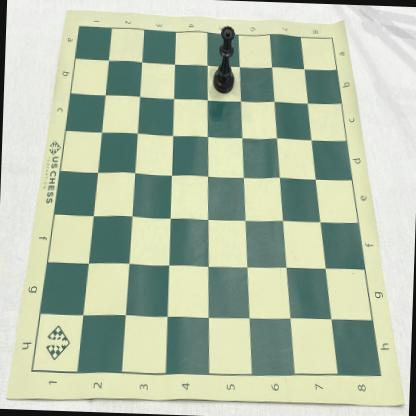black-queen: (212, 25, 236, 95)
